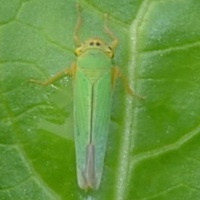insect: (73, 1, 117, 189)
